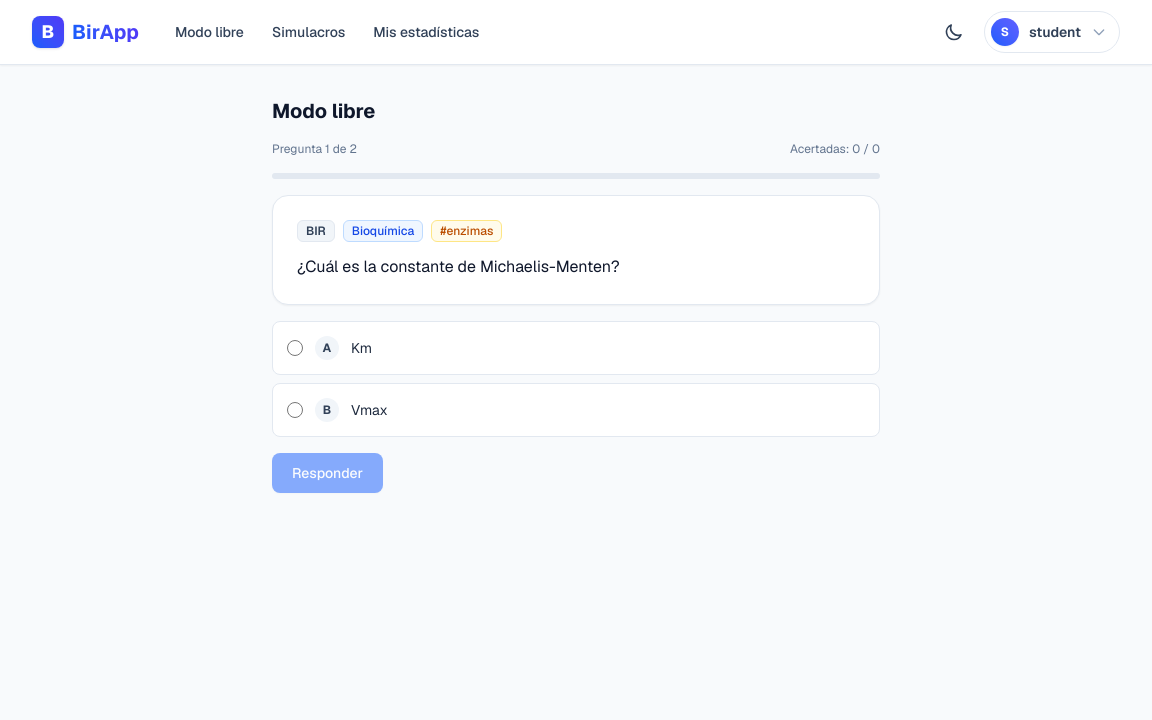
Scenario: FreePlayPage (/free/[id]) › renders current question, answers it, shows feedback, and opens Proposal modal
Check: the text "Pregunta 1 de 2" is shown, box [272, 141, 357, 157]
Check: the text "Acertadas: 0 / 0" is shown, box [790, 141, 880, 157]
Click the radio button labelled "A Km" at (295, 348), box [287, 340, 303, 356]
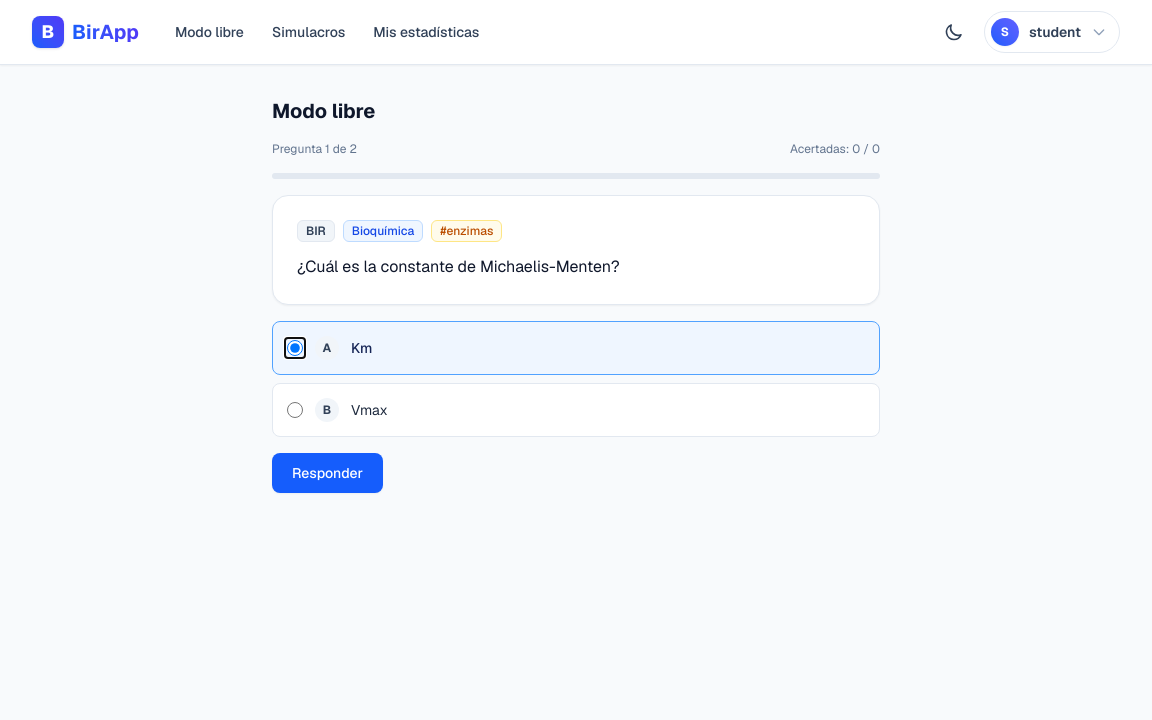
Click the button "Responder" at (328, 473), box [272, 453, 383, 493]
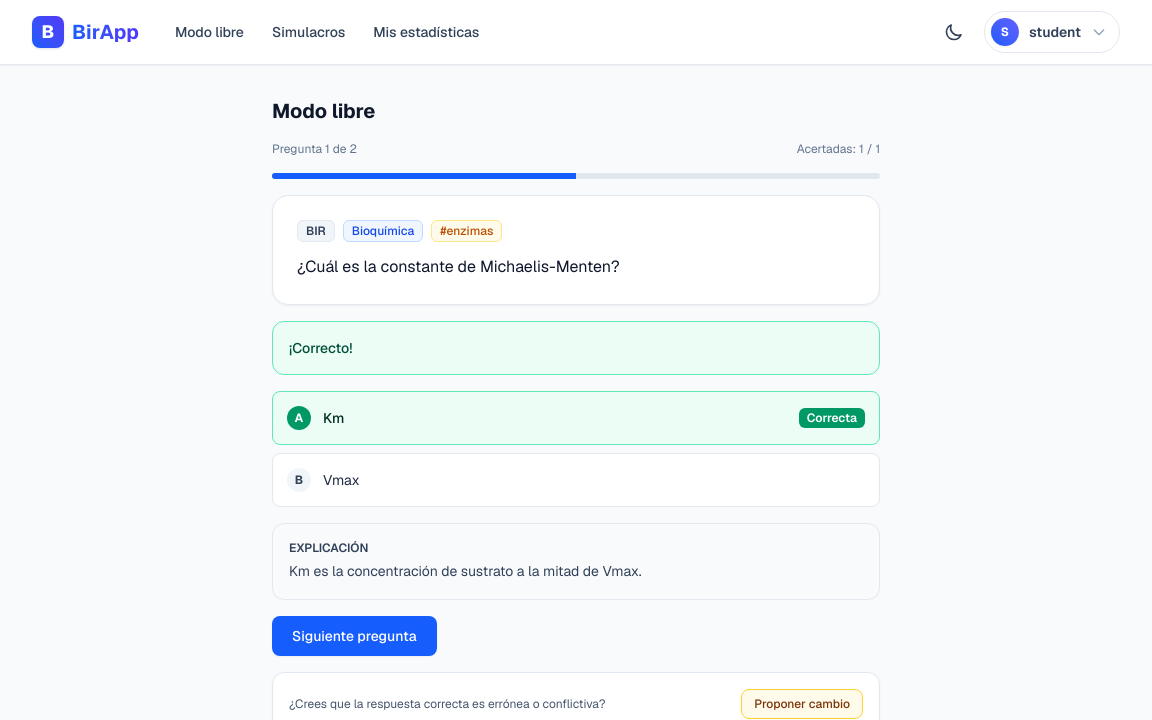
Check: the text "¡Correcto!" is shown, box [289, 339, 352, 357]
Check: the text "Correcta" is shown, box [799, 408, 865, 428]
Check: the text "Km es la concentración de sustrato a la mitad de Vmax." is shown, box [289, 562, 642, 580]
Open Proposal modal
Click the button "Proponer cambio" at (802, 704), box [741, 689, 863, 719]
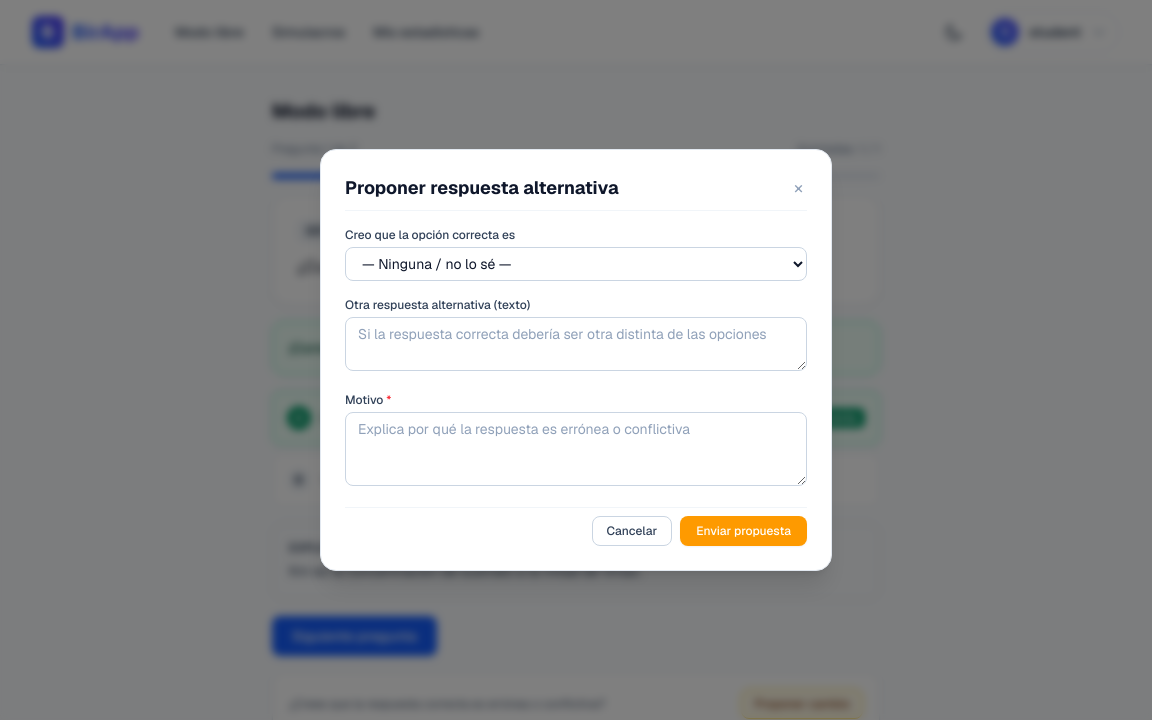
Check: the heading "Proponer respuesta alternativa" is shown, box [345, 174, 619, 202]
Type "Creo que la pregunta es ambigua." into the text box labelled "Motivo *" at (576, 449), box [345, 412, 807, 486]
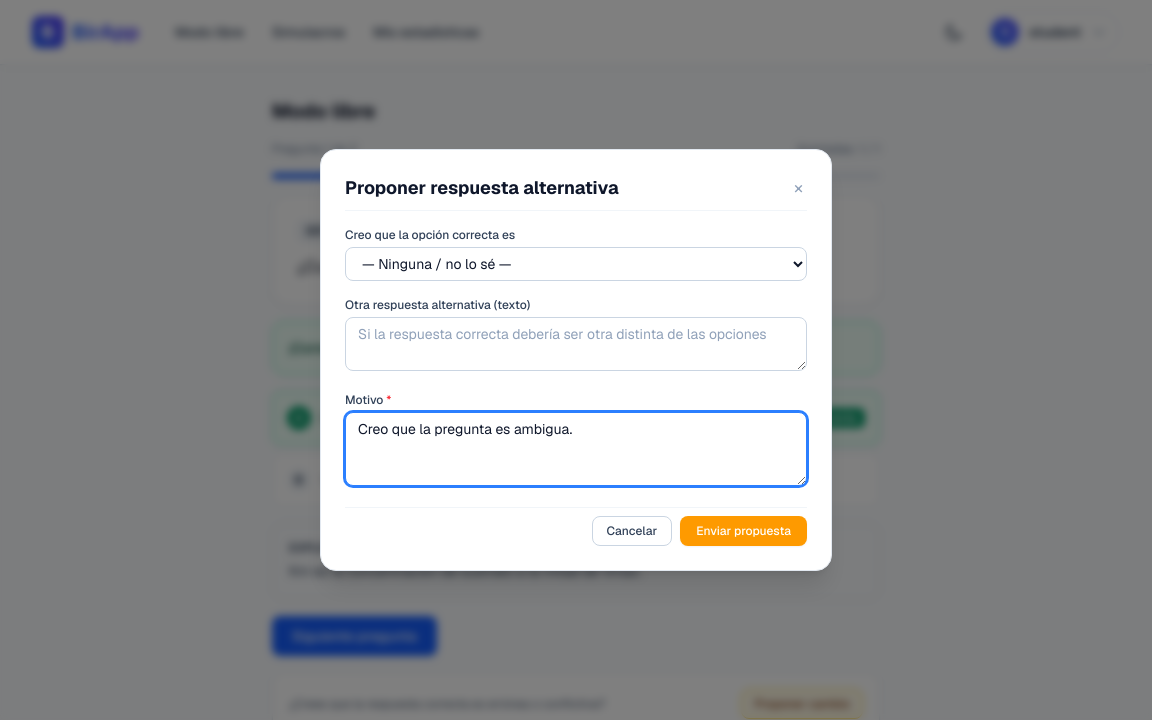
Click the button "Enviar propuesta" at (744, 531), box [680, 516, 807, 546]
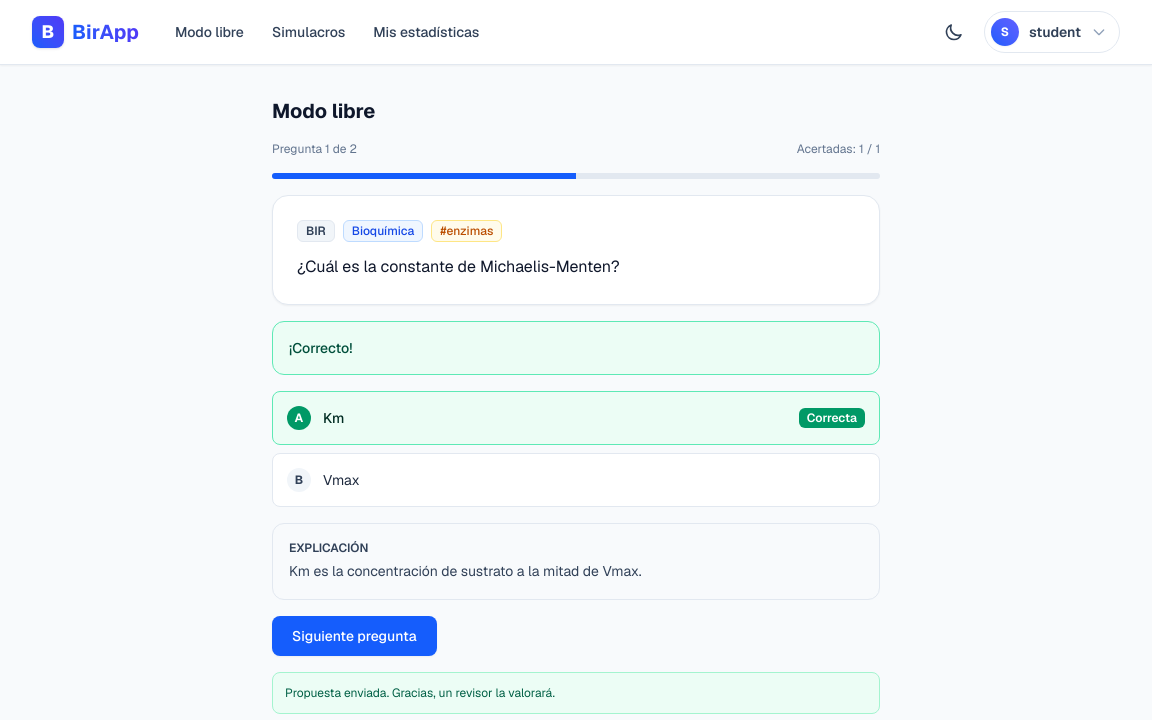
Check: the text "Propuesta enviada. Gracias, un revisor la valorará." is shown, box [272, 672, 880, 714]
Advance to next question
Click the button "Siguiente pregunta" at (354, 636), box [272, 616, 437, 656]
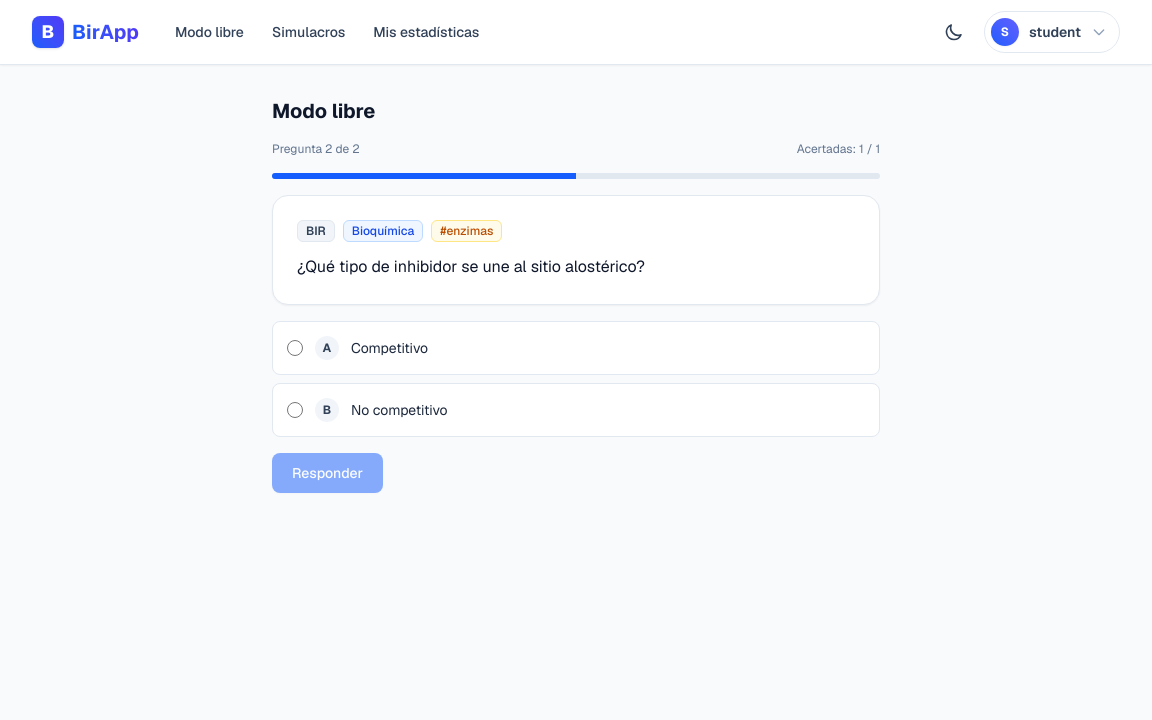
Check: the text "Pregunta 2 de 2" is shown, box [272, 141, 360, 157]
Check: the text "¿Qué tipo de inhibidor se une al sitio alostérico?" is shown, box [297, 256, 645, 277]
